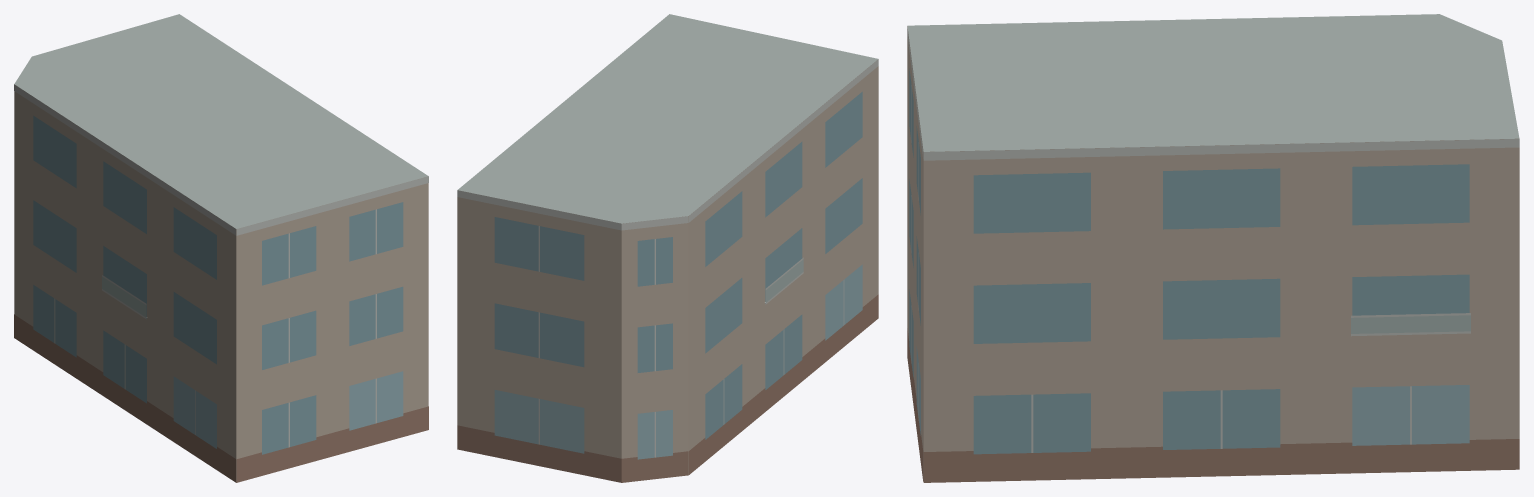
The model's file is survey-upis-32695588.glb.
3 renders of one model, left to right at view 1: azimuth 30°, elevation 25°; view 2: azimuth 150°, elevation 25°; view 3: azimuth 270°, elevation 25°, orthographic. The views are drawn at different scales.
Parts seen in each view (by area): view 1: survey-upis-32695588.tmp; view 2: survey-upis-32695588.tmp; view 3: survey-upis-32695588.tmp.
Boxes of the visible parts, <box> form: survey-upis-32695588.tmp: <box>14,14,428,482</box>; survey-upis-32695588.tmp: <box>457,14,878,482</box>; survey-upis-32695588.tmp: <box>907,14,1519,482</box>.
Size of the model in its own units: 8.19 by 9.15 by 15.35.
